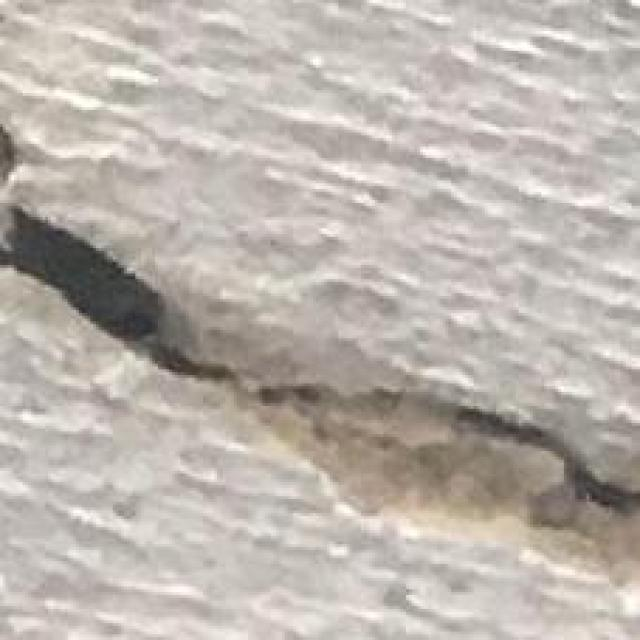diagonal crack: (0, 206, 639, 513)
